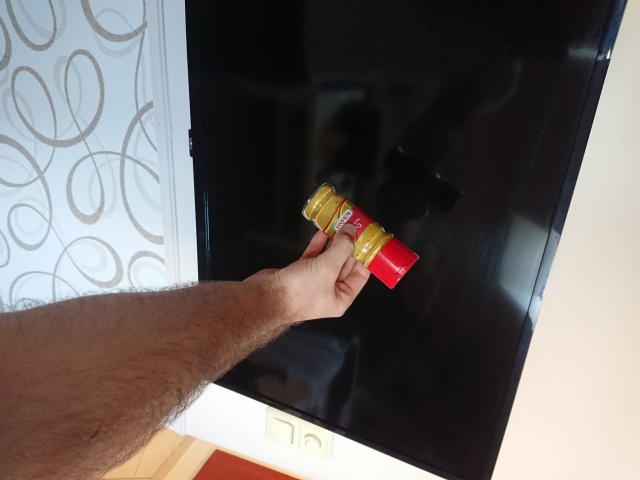Kotanyi Curry Spices Mix 70g: (299, 180, 422, 292)
